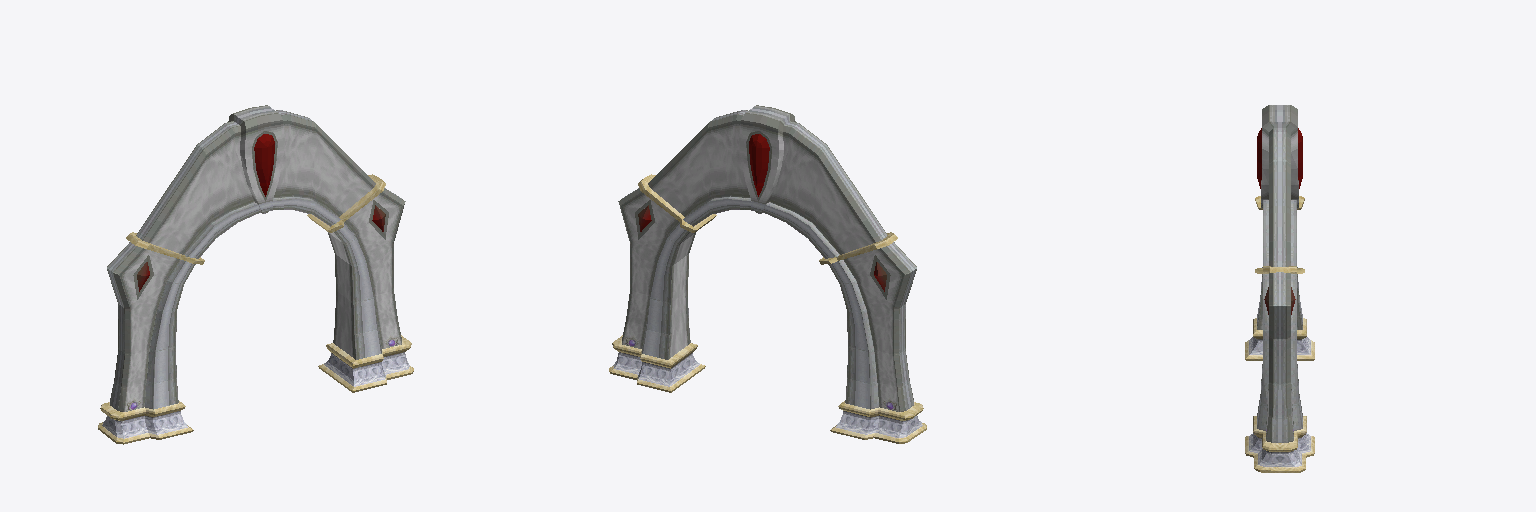
3 renders of one model, left to right at view 1: azimuth 30°, elevation 25°; view 2: azimuth 150°, elevation 25°; view 3: azimuth 270°, elevation 25°, orthographic.
Parts seen in each view (by area): view 1: LevelEndPortal1, LevelEndPortal2; view 2: LevelEndPortal1, LevelEndPortal2; view 3: LevelEndPortal1, LevelEndPortal2.
Part boxes in pixels (left/top/right/bottom): LevelEndPortal1: left=98, top=105, right=413, bottom=444; LevelEndPortal2: left=137, top=134, right=385, bottom=291; LevelEndPortal1: left=609, top=105, right=926, bottom=443; LevelEndPortal2: left=638, top=134, right=886, bottom=291; LevelEndPortal1: left=1245, top=105, right=1314, bottom=472; LevelEndPortal2: left=1257, top=128, right=1302, bottom=314.
Size of the model in its own units: 932 by 855 by 187.
Materials: 2 (2 with a texture image).